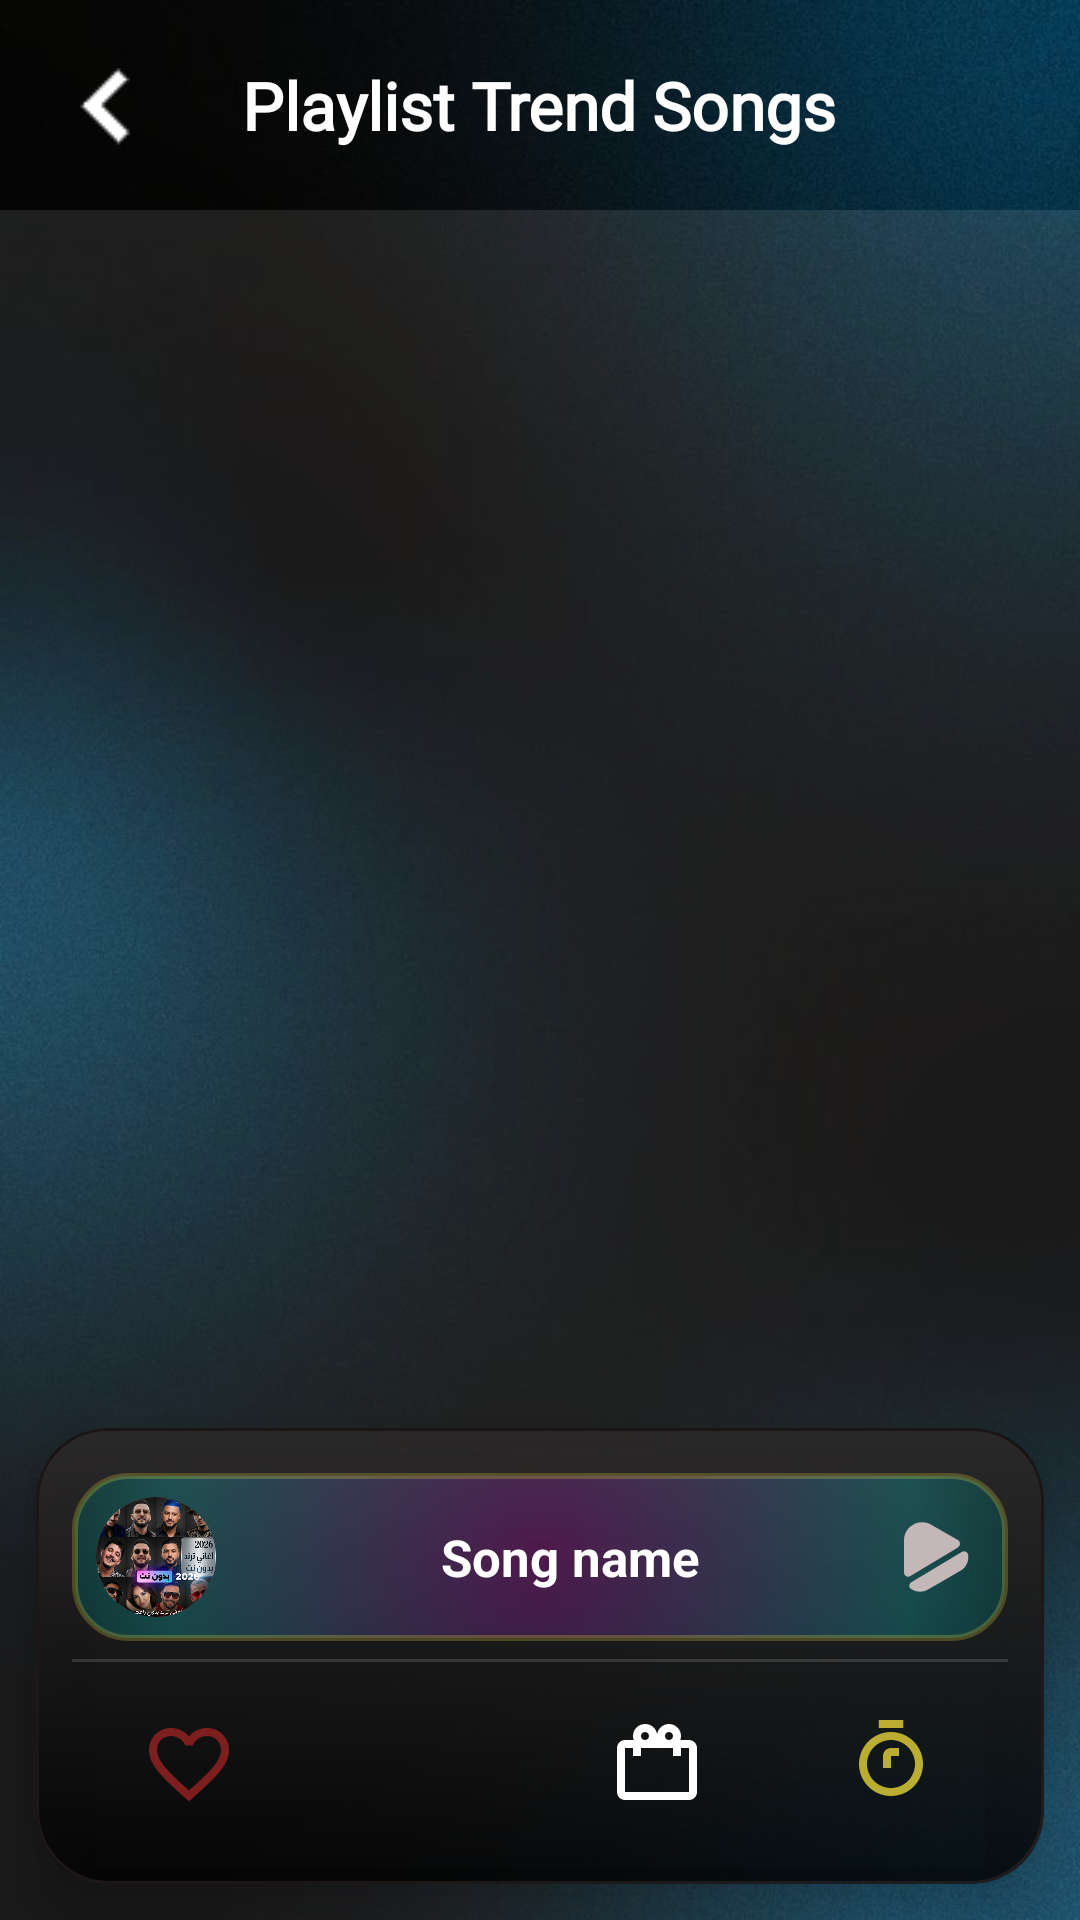

Locate icon controls on the screen. Image size 1080px x 1920px, boxes as (x1, y1, x2, y2).
favorite: (149, 1728, 229, 1801)
left arrow: (80, 68, 130, 145)
timer: (859, 1720, 923, 1796)
